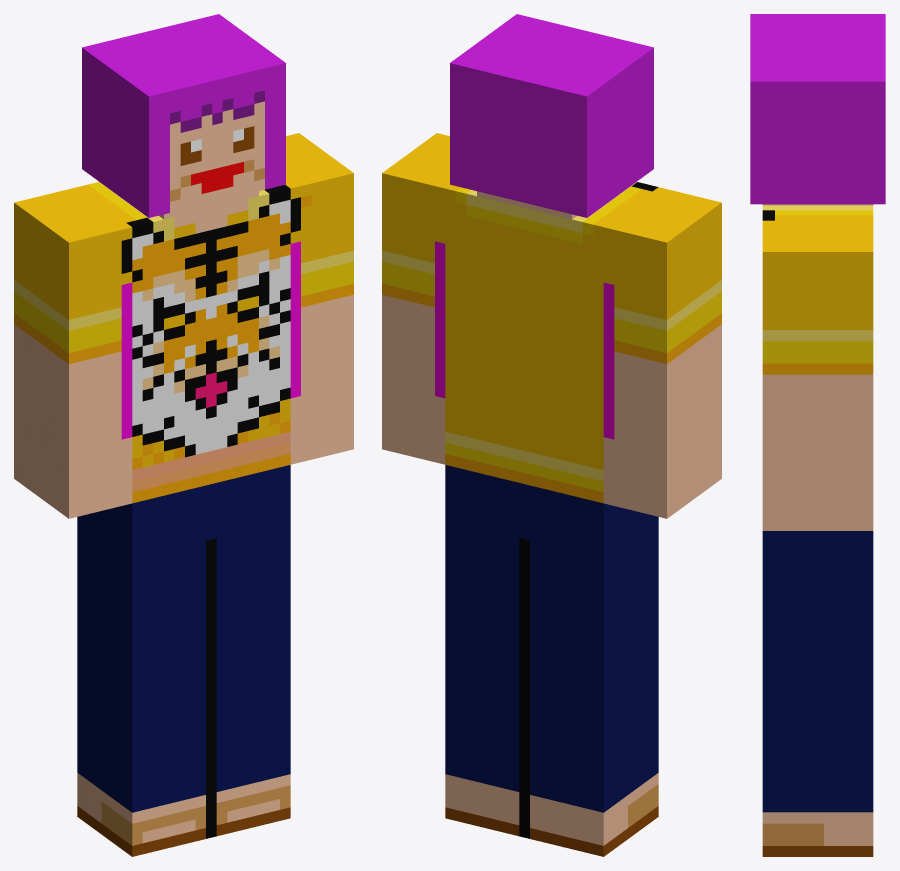
File: obasan.smail.obj
3 views of the same model, side by side, from view 1: azimuth 30°, elevation 25°; view 2: azimuth 150°, elevation 25°; view 3: azimuth 270°, elevation 25° (orthographic).
Size of the model in its own units: 2.7 by 6.9 by 1.1.
Materials: 1 (1 with a texture image).
